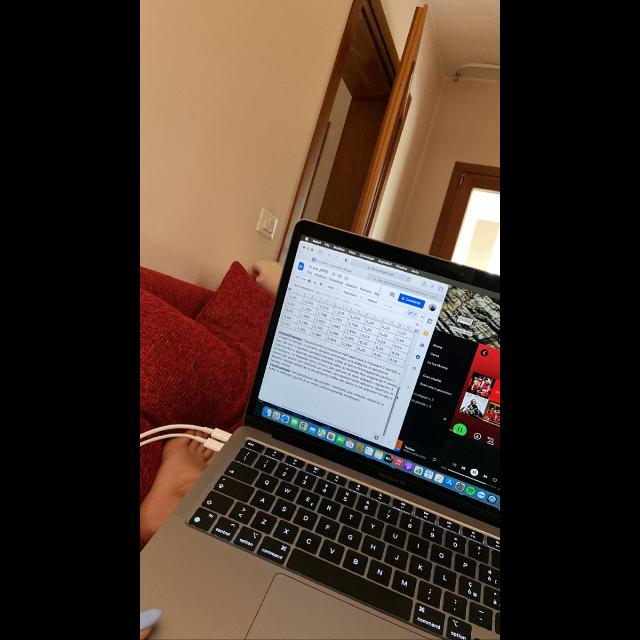laptop: (140, 223, 499, 639)
